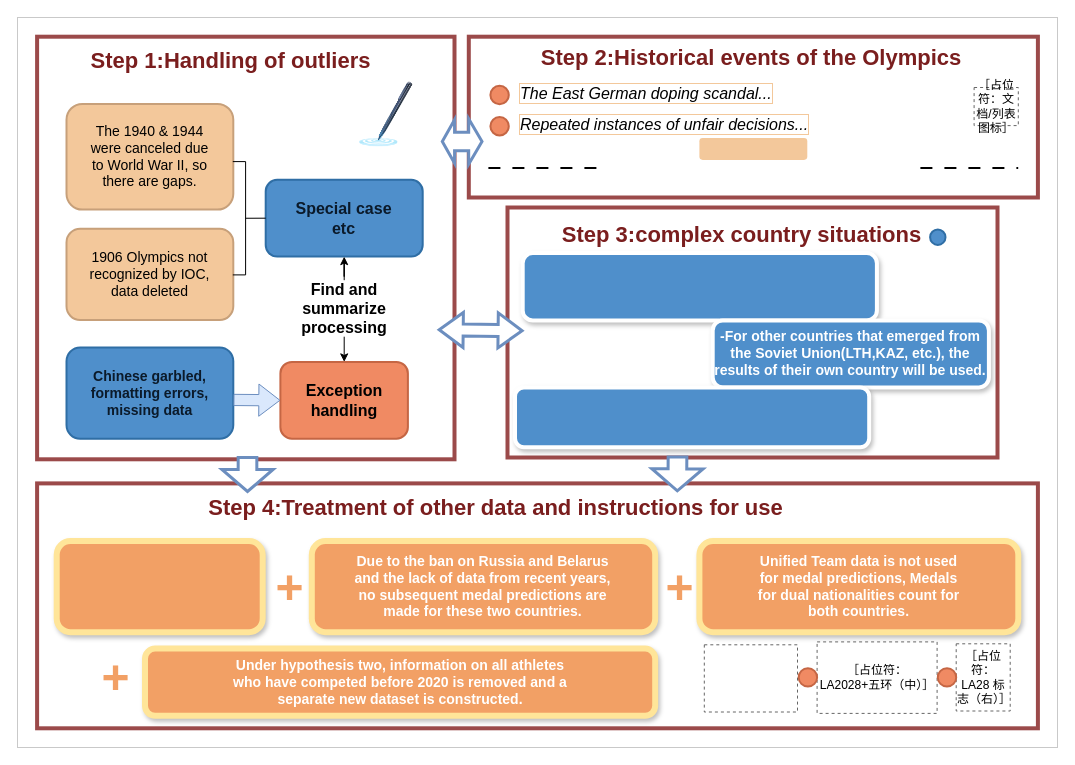
Image size: 1075x765. Some labels were removed from this diagram. Here are the shapes that lost their labels. From the top down, the centre of each, then its label:
At (753,148): "Summary".
At (758,176): "No significant impact, all ignored and handled normally".
At (700,288): "-The data of the Soviet Union(URS) is integrated to Russia(RUS).".
At (692,418): "-East and West Germany merged into Germany, results retained.".
At (160,588): "Combined first and second team data for one country".
At (750,678): "［占位符：LA28 标志（左）］".
